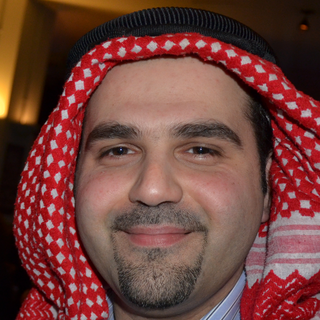eye: (177, 140, 226, 164), (95, 141, 142, 164)
